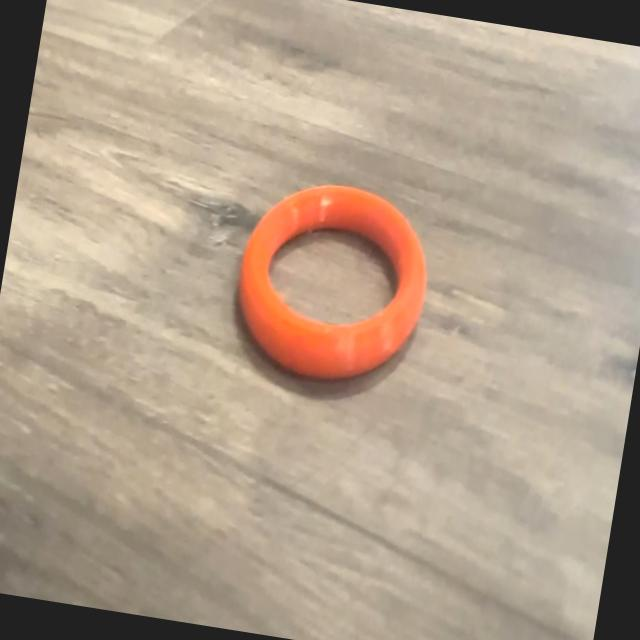note: (224, 168, 440, 394)
